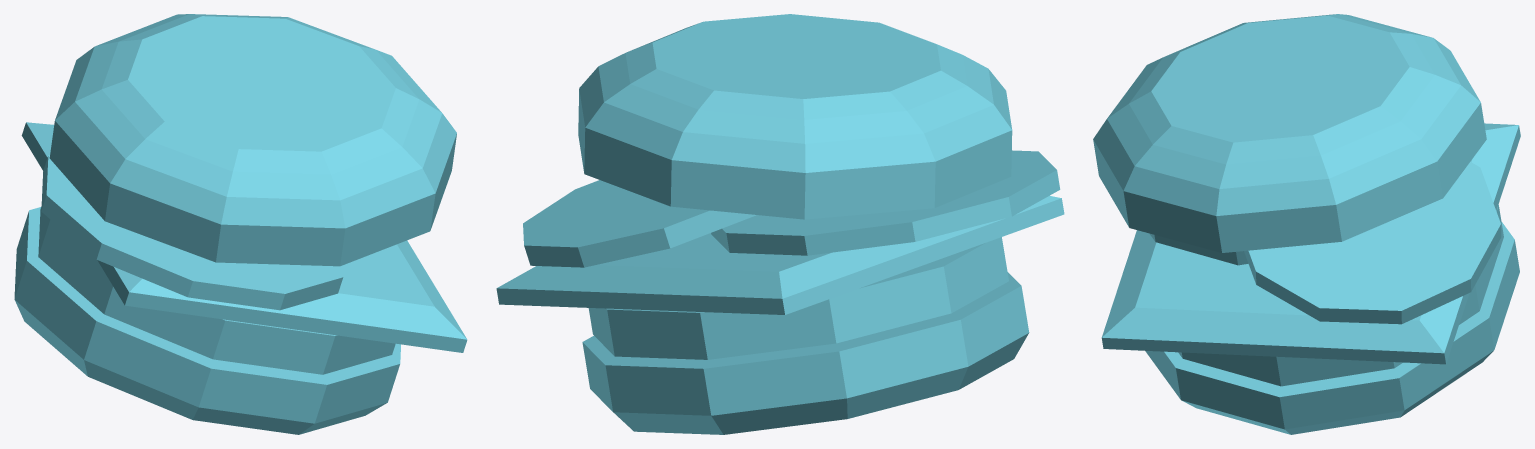
The model's file is Hamburger_Hologram.fbx.
3 renders of one model, left to right at view 1: azimuth 30°, elevation 25°; view 2: azimuth 150°, elevation 25°; view 3: azimuth 270°, elevation 25°, orthographic. The views are drawn at different scales.
Parts seen in each view (by area): view 1: Patty; view 2: Patty; view 3: Patty.
Boxes of the visible parts, x1,y1,x2,y2 form: Patty: (14,14,467,434); Patty: (496,14,1064,434); Patty: (1093,14,1520,434).
Size of the model in its own units: 92.81 by 75.02 by 90.52.
